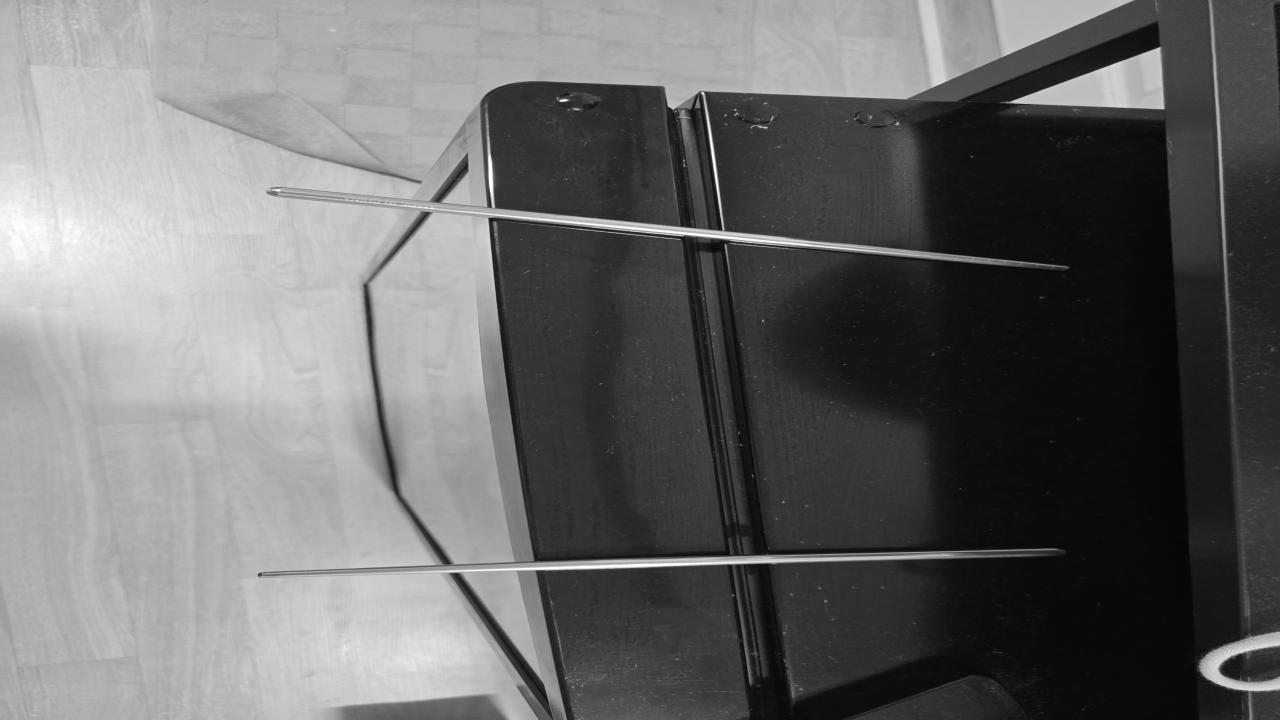chopstick: (261, 544, 1012, 712), (263, 164, 1079, 283), (252, 541, 1073, 581)
